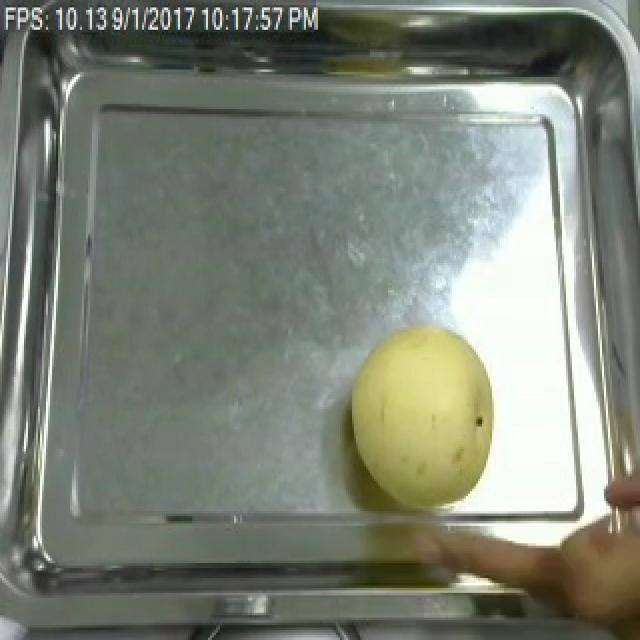Fruit: (342, 315, 506, 511), (550, 496, 640, 640)
